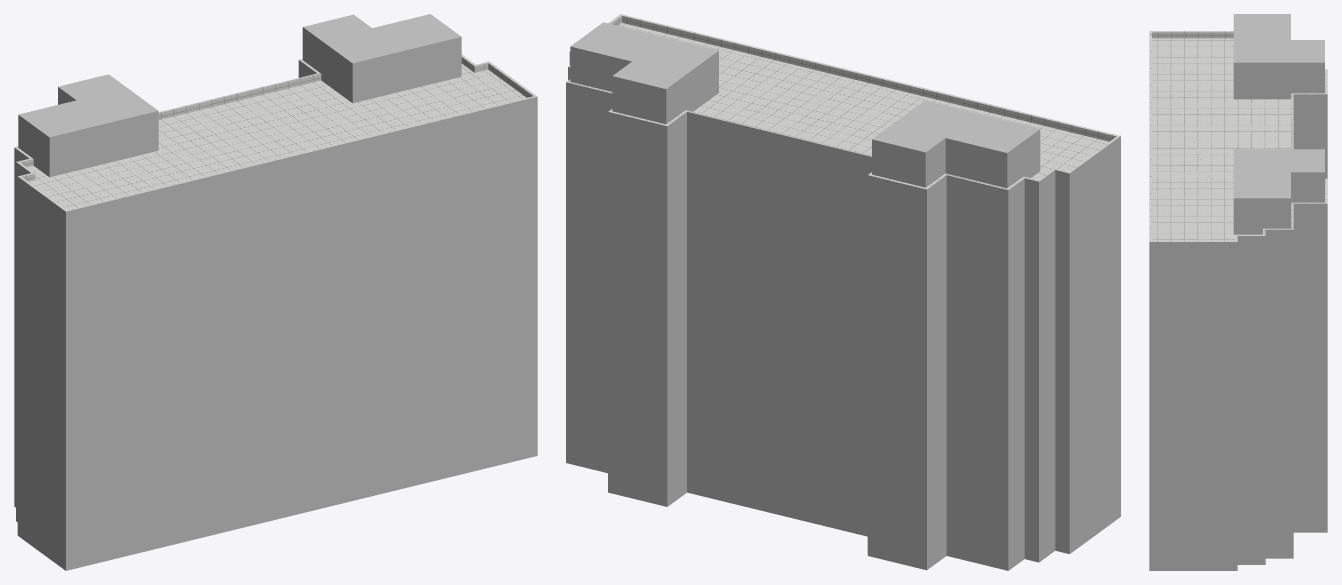
Rendered from side building02.FBX.
3 renders of one model, left to right at view 1: azimuth 30°, elevation 25°; view 2: azimuth 150°, elevation 25°; view 3: azimuth 270°, elevation 25°, orthographic. The views are drawn at different scales.
Parts seen in each view (by area): view 1: lou1_3; view 2: lou1_3; view 3: lou1_3.
Part boxes in pixels (x1,y1,x2,y2): lou1_3: (14,14,537,570); lou1_3: (566,14,1120,570); lou1_3: (1149,14,1327,570).
Size of the model in its own units: 37.11 by 13.29 by 29.5.
